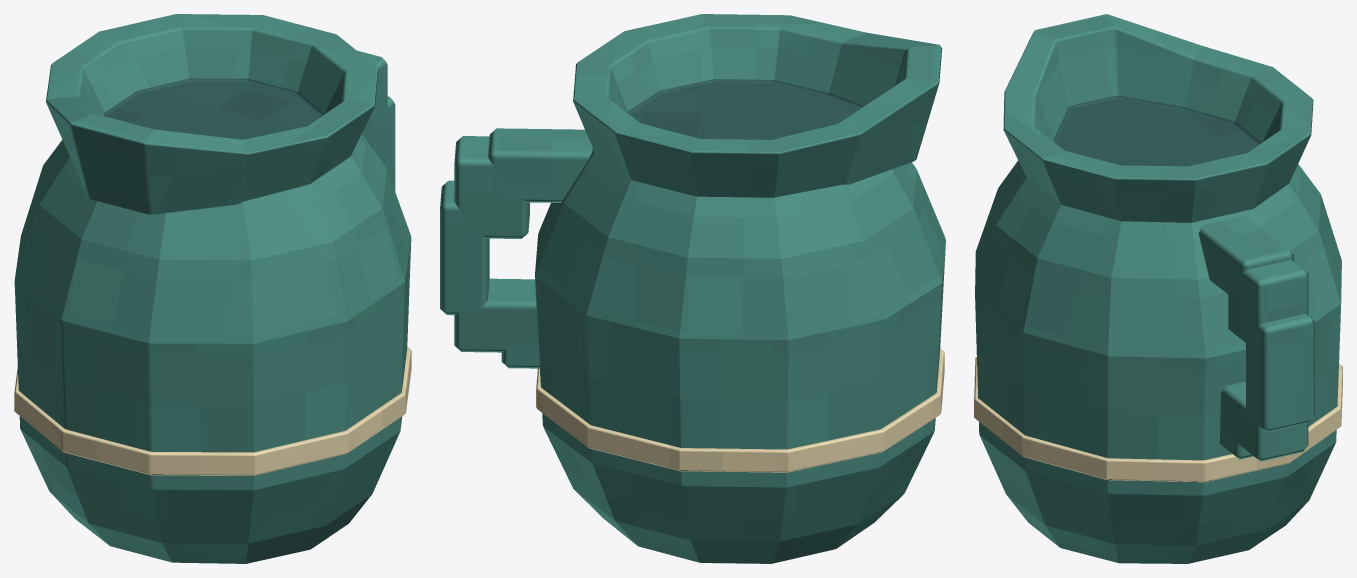
Rendered from SeafoamPitcher.glb.
3 views of the same model, side by side, from view 1: azimuth 30°, elevation 25°; view 2: azimuth 150°, elevation 25°; view 3: azimuth 270°, elevation 25° (orthographic). The views are drawn at different scales.
Visible parts, largest first — view 1: SeafoamPitcher.Ceramic-body, SeafoamPitcher.Pouring-lip, SeafoamPitcher.Glaze-stripe, SeafoamPitcher.Loop-handle; view 2: SeafoamPitcher.Ceramic-body, SeafoamPitcher.Pouring-lip, SeafoamPitcher.Loop-handle, SeafoamPitcher.Glaze-stripe; view 3: SeafoamPitcher.Ceramic-body, SeafoamPitcher.Pouring-lip, SeafoamPitcher.Loop-handle, SeafoamPitcher.Glaze-stripe.
Boxes of the visible parts, x1,y1,x2,y2 form: SeafoamPitcher.Ceramic-body: (14,134,411,563); SeafoamPitcher.Pouring-lip: (46,14,378,214); SeafoamPitcher.Glaze-stripe: (14,347,411,475); SeafoamPitcher.Loop-handle: (357,50,395,191); SeafoamPitcher.Ceramic-body: (535,148,945,563); SeafoamPitcher.Pouring-lip: (573,14,942,197); SeafoamPitcher.Loop-handle: (440,128,592,368); SeafoamPitcher.Glaze-stripe: (536,349,944,472); SeafoamPitcher.Ceramic-body: (975,160,1341,563); SeafoamPitcher.Pouring-lip: (1003,14,1313,222); SeafoamPitcher.Loop-handle: (1198,215,1314,461); SeafoamPitcher.Glaze-stripe: (974,357,1342,482).
Bounding box in the file's own units: 0.3363 × 0.3448 × 0.2747.
Materials: 3 (3 with a texture image).
